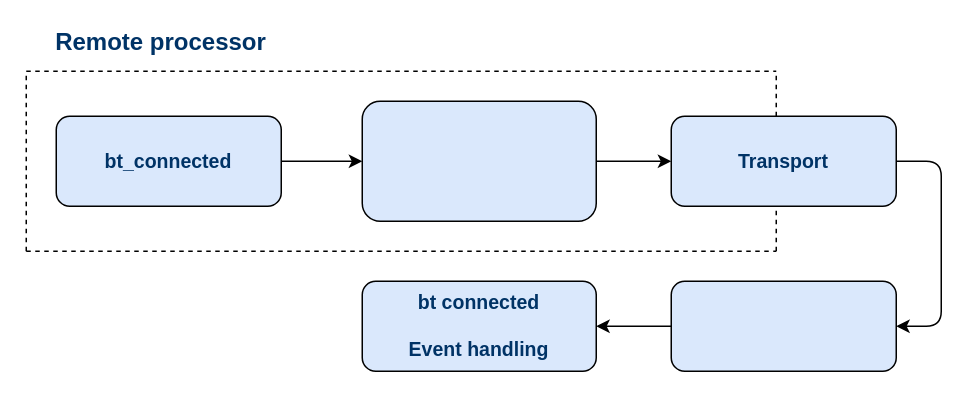
This 980x398 diagram has some shape labels left out. The box of each missing label's shape, as (x1, y1, x2, y2) in pixels:
bt_connected event TinyCBOR serialization: (361, 100, 596, 221)
bt_connected TinyCBOR decoder: (670, 280, 896, 371)
